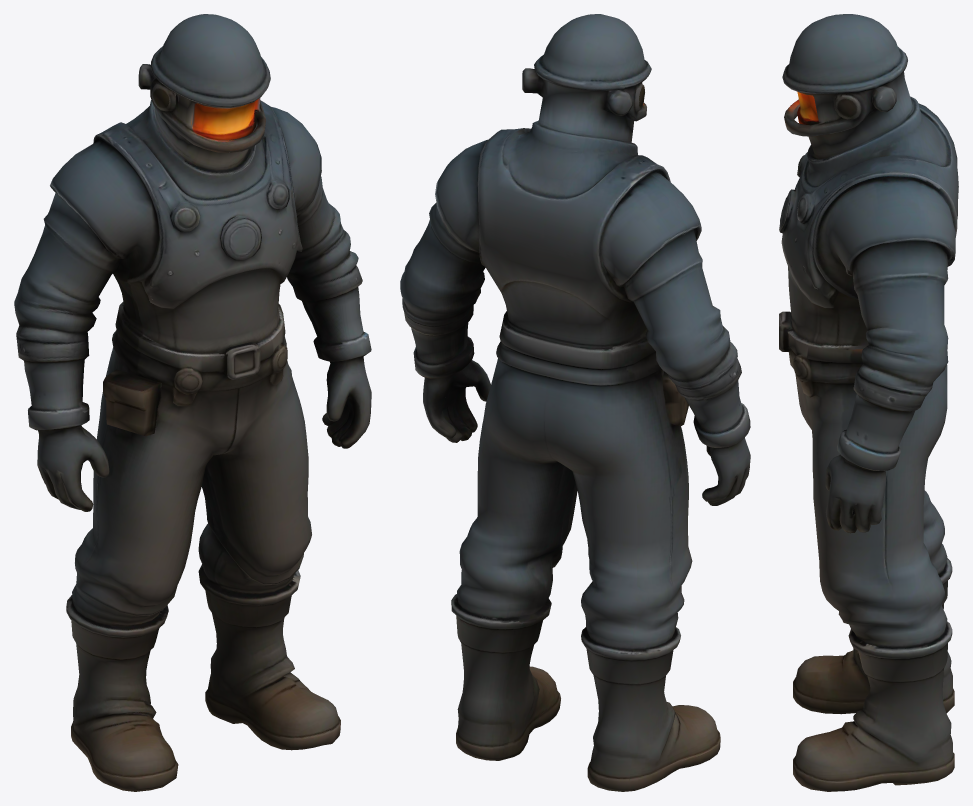
File: forge_furnace_realistic_style_cfa5bdbf_v4.glb
3 renders of one model, left to right at view 1: azimuth 30°, elevation 25°; view 2: azimuth 150°, elevation 25°; view 3: azimuth 270°, elevation 25°, orthographic. The views are drawn at different scales.
Visible parts, largest first — view 1: texture_pbr_20250901; view 2: texture_pbr_20250901; view 3: texture_pbr_20250901.
Boxes of the visible parts, x1=… form: texture_pbr_20250901: x1=14, y1=14, x2=371, y2=791; texture_pbr_20250901: x1=400, y1=14, x2=750, y2=791; texture_pbr_20250901: x1=779, y1=14, x2=958, y2=791.
Bounding box in the file's own units: 0.9063 × 1.9 × 0.4297.
Materials: 1 (1 with a texture image).
